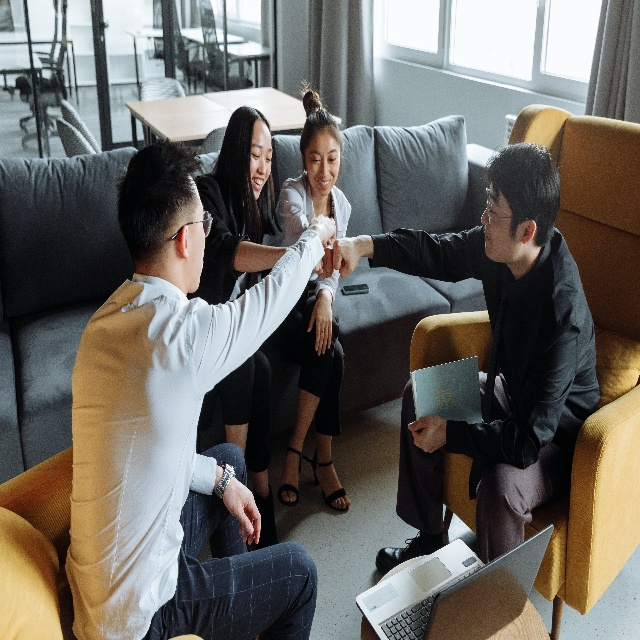Gafas: (486, 186, 529, 227), (171, 209, 213, 244)
Sin_guantes: (223, 475, 262, 545), (307, 297, 333, 358), (408, 415, 448, 454), (332, 236, 361, 279), (310, 214, 337, 249), (321, 247, 336, 281), (312, 258, 324, 275)
